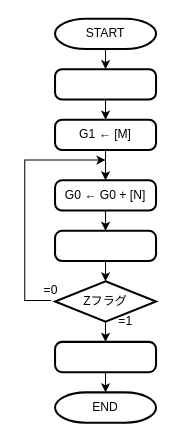
Some shapes in this 175 by 448 pixel diagram are drawn without their labels. Each missing label, with the centre of its shape:
[L] ← G0: point (105, 356)
G0 ← 0: point (105, 84)
G1 ← G1 - 1: point (105, 245)
